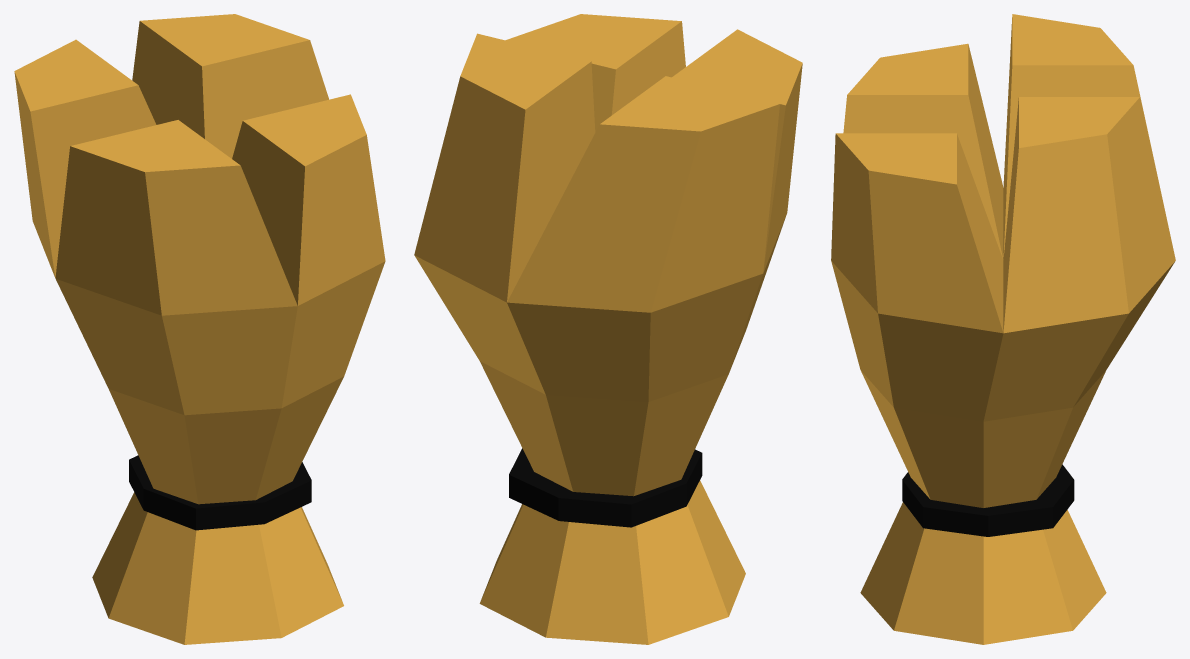
File: WheatItem.fbx
3 renders of one model, left to right at view 1: azimuth 30°, elevation 25°; view 2: azimuth 150°, elevation 25°; view 3: azimuth 270°, elevation 25°, orthographic. The views are drawn at different scales.
Visible parts, largest first — view 1: WheatItem; view 2: WheatItem; view 3: WheatItem.
Boxes of the visible parts, x1,y1,x2,y2 form: WheatItem: (14,14,385,644); WheatItem: (414,14,802,644); WheatItem: (831,14,1175,644).
Size of the model in its own units: 25.46 by 37.96 by 23.87.
